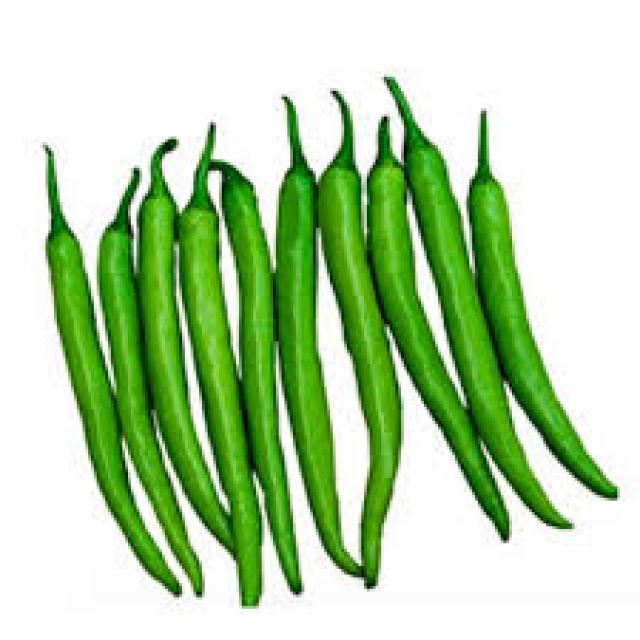green chilli: (388, 80, 566, 523), (46, 148, 182, 596), (370, 119, 509, 542), (469, 111, 620, 499), (319, 91, 404, 589), (276, 100, 364, 576), (179, 125, 262, 607), (139, 139, 233, 550), (222, 165, 302, 593), (100, 171, 179, 542)
